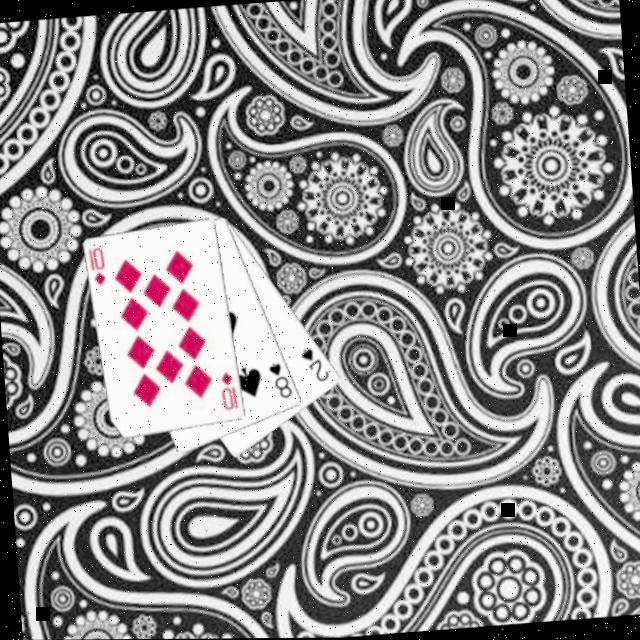10D: (86, 244, 110, 289), (219, 370, 242, 414)
2S: (298, 345, 333, 387)
8S: (267, 359, 297, 403)
